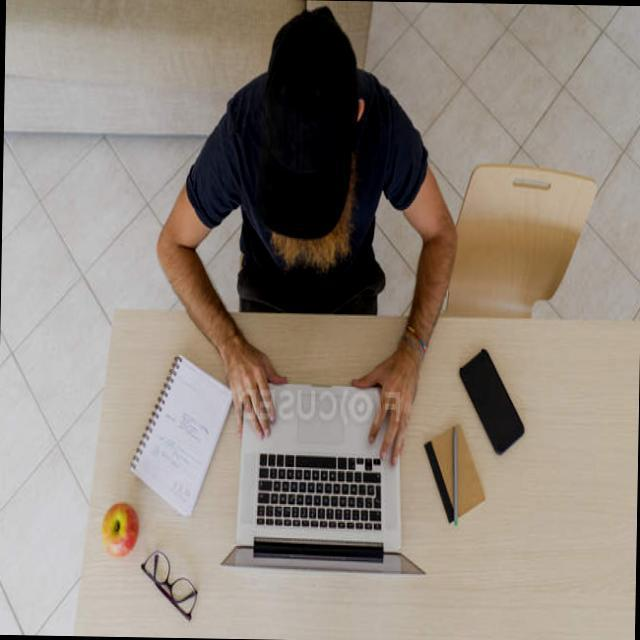cap: (229, 0, 367, 264)
